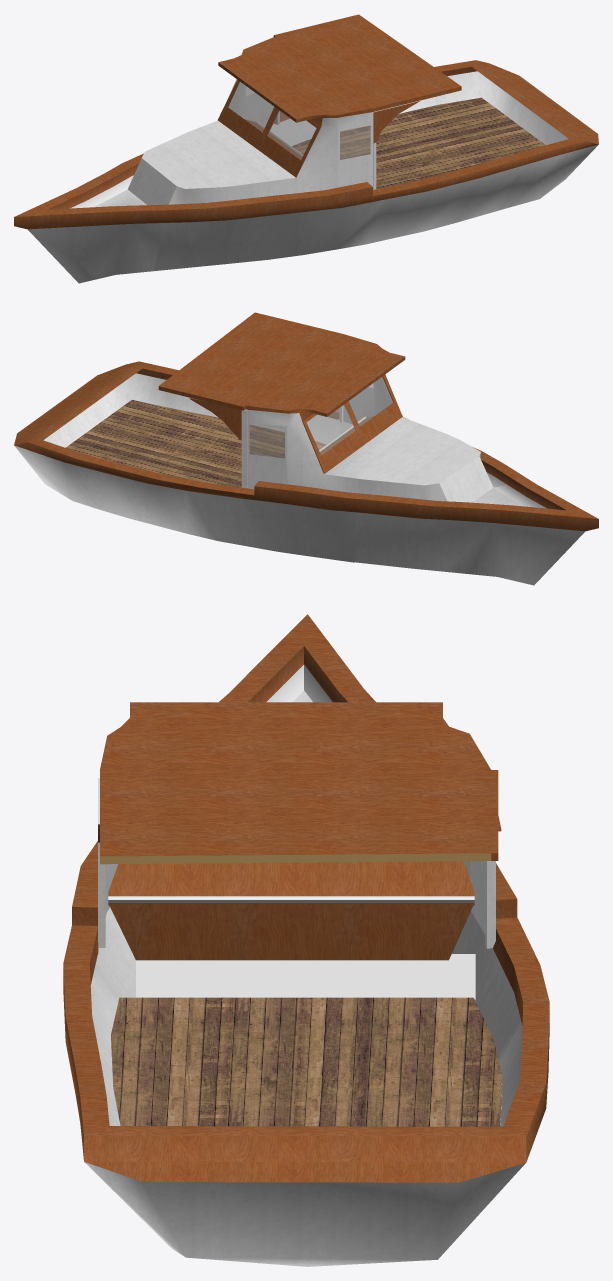
Rendered from workboat.glb.
The picture shows the model from 3 angles, top to bottom: view 1: azimuth 30°, elevation 25°; view 2: azimuth 150°, elevation 25°; view 3: azimuth 270°, elevation 25°; orthographic projection. The views are drawn at different scales.
Parts seen in each view (by area): view 1: Mesh1_Model, Mesh2_Model; view 2: Mesh1_Model, Mesh2_Model; view 3: Mesh1_Model, Mesh2_Model.
Part boxes in pixels (box(x1,y1,x2,y2)): Mesh1_Model: box(14, 14, 598, 283); Mesh2_Model: box(292, 97, 545, 189); Mesh1_Model: box(14, 312, 598, 585); Mesh2_Model: box(65, 400, 325, 487); Mesh1_Model: box(63, 614, 549, 1266); Mesh2_Model: box(111, 997, 501, 1126).
Size of the model in its own units: 21.64 by 6.02 by 8.39.
7 materials, 3 textured.
